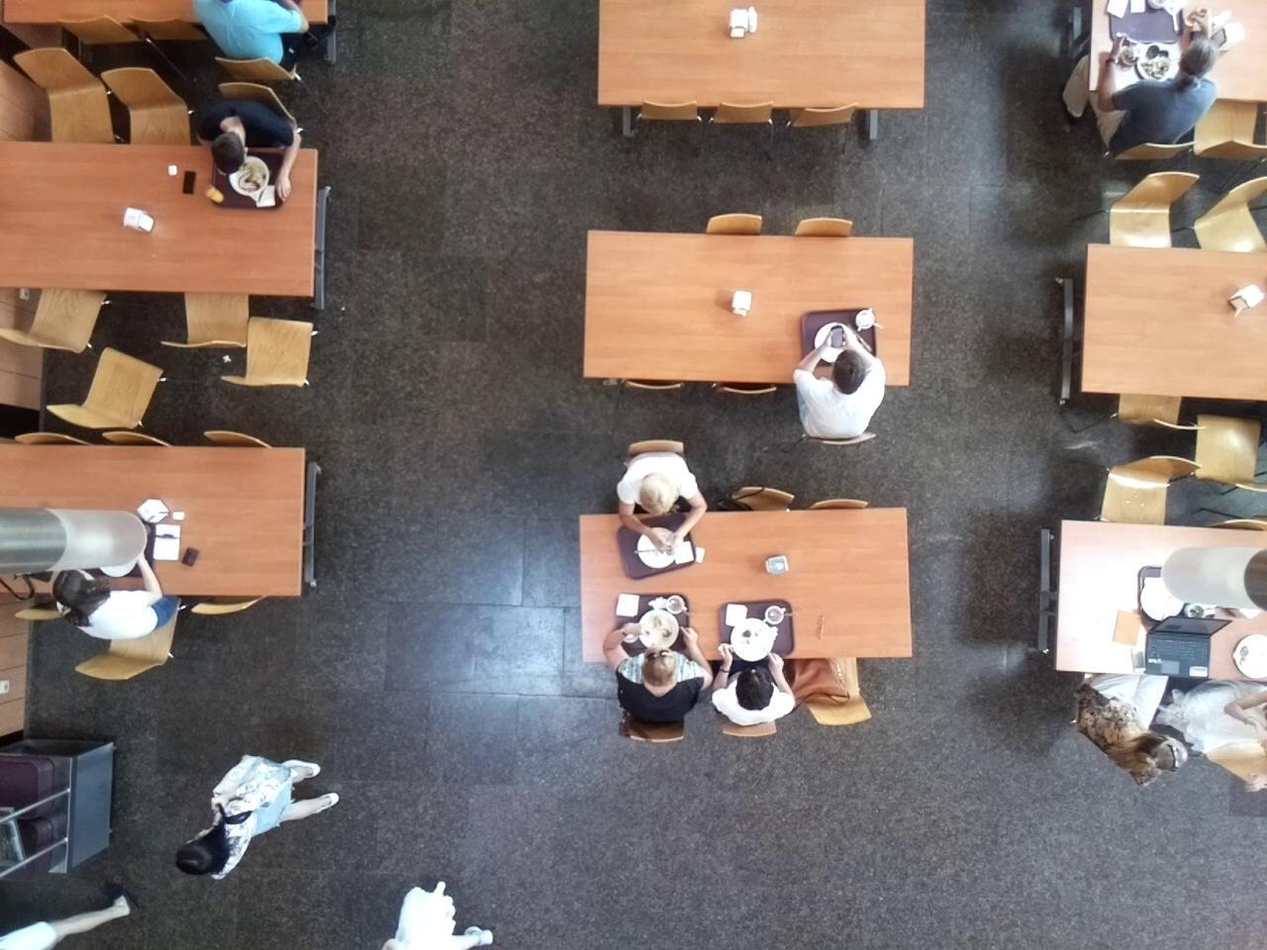person: (171, 737, 346, 879), (1096, 29, 1219, 165), (186, 85, 293, 227), (1070, 658, 1183, 792), (701, 602, 804, 748), (783, 316, 888, 458), (53, 548, 187, 656), (602, 431, 709, 563), (601, 641, 695, 741)
